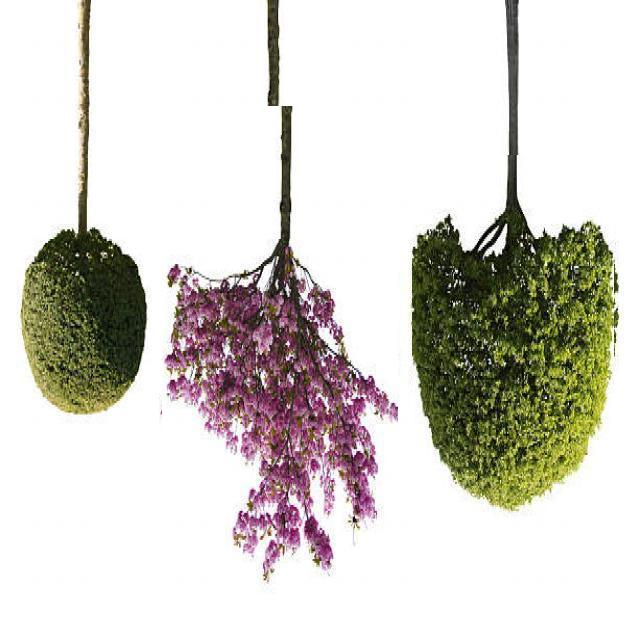tree: (162, 106, 398, 614), (412, 155, 614, 513), (12, 1, 146, 446)
